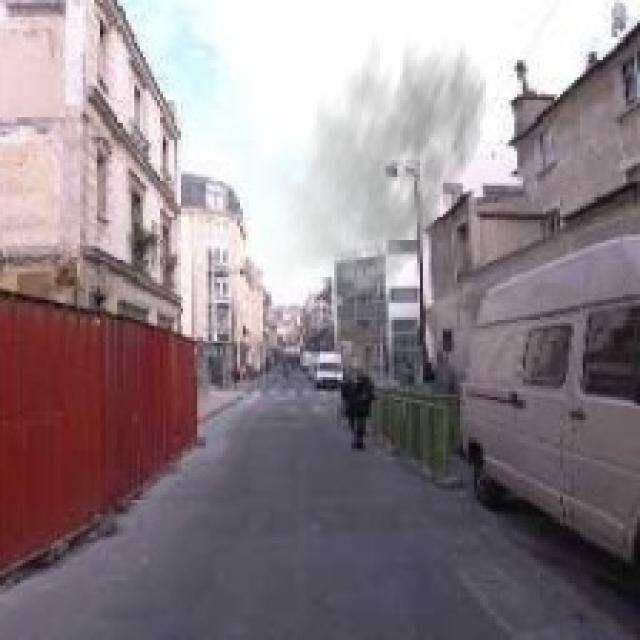smoke: (257, 23, 489, 303)
